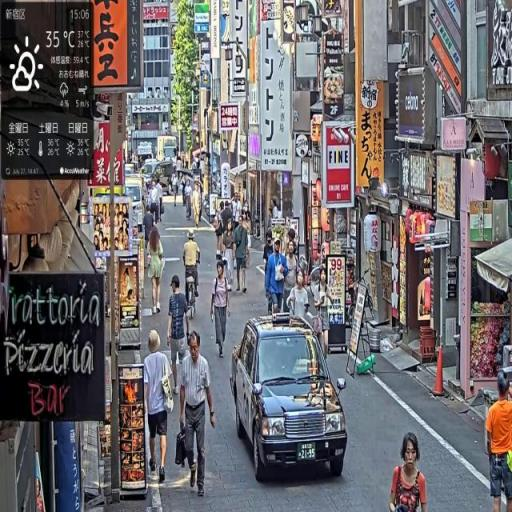person: (178, 328, 217, 498), (145, 327, 177, 485), (486, 369, 512, 512), (389, 431, 428, 512), (168, 275, 192, 393), (265, 238, 291, 324), (212, 263, 233, 358), (148, 222, 168, 315), (183, 229, 202, 309), (233, 213, 251, 295), (289, 271, 313, 325), (193, 181, 204, 231)
